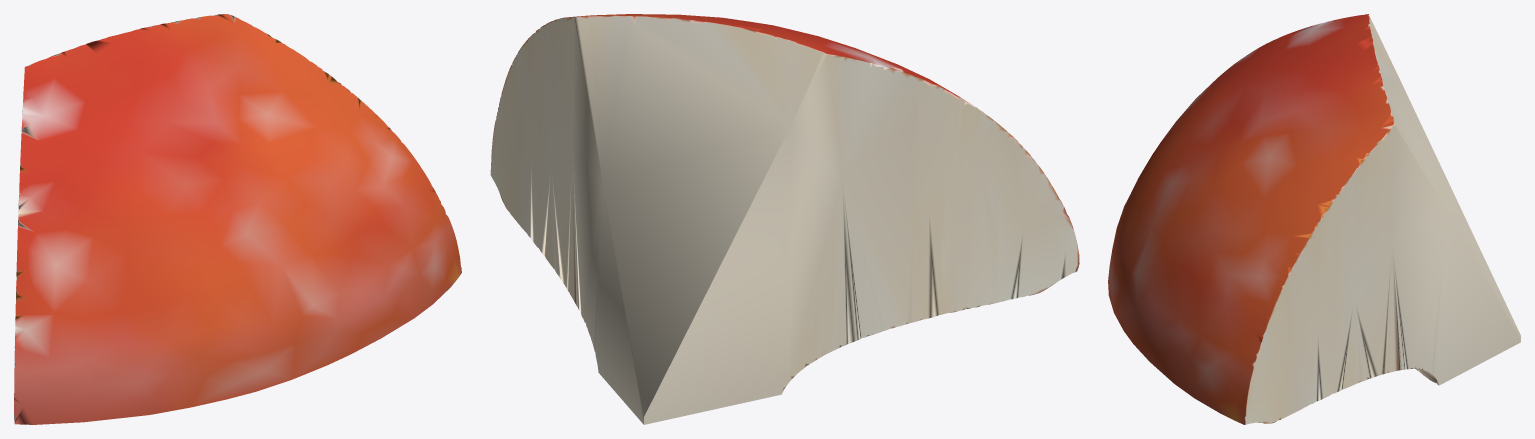
The model's file is amanita-scout-cap1.glb.
3 views of the same model, side by side, from view 1: azimuth 30°, elevation 25°; view 2: azimuth 150°, elevation 25°; view 3: azimuth 270°, elevation 25° (orthographic). The views are drawn at different scales.
Visible parts, largest first — view 1: body; view 2: body; view 3: body.
Boxes of the visible parts, bbox=[...] form: body: bbox=[14, 14, 461, 424]; body: bbox=[490, 14, 1079, 424]; body: bbox=[1108, 14, 1520, 424].
Bounding box in the file's own units: 0.7436 × 0.4507 × 0.5657.
